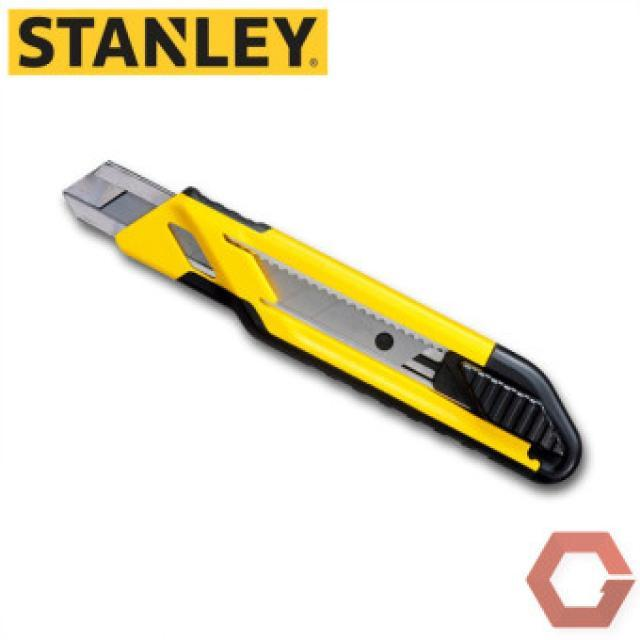cutter: (61, 150, 594, 500)
